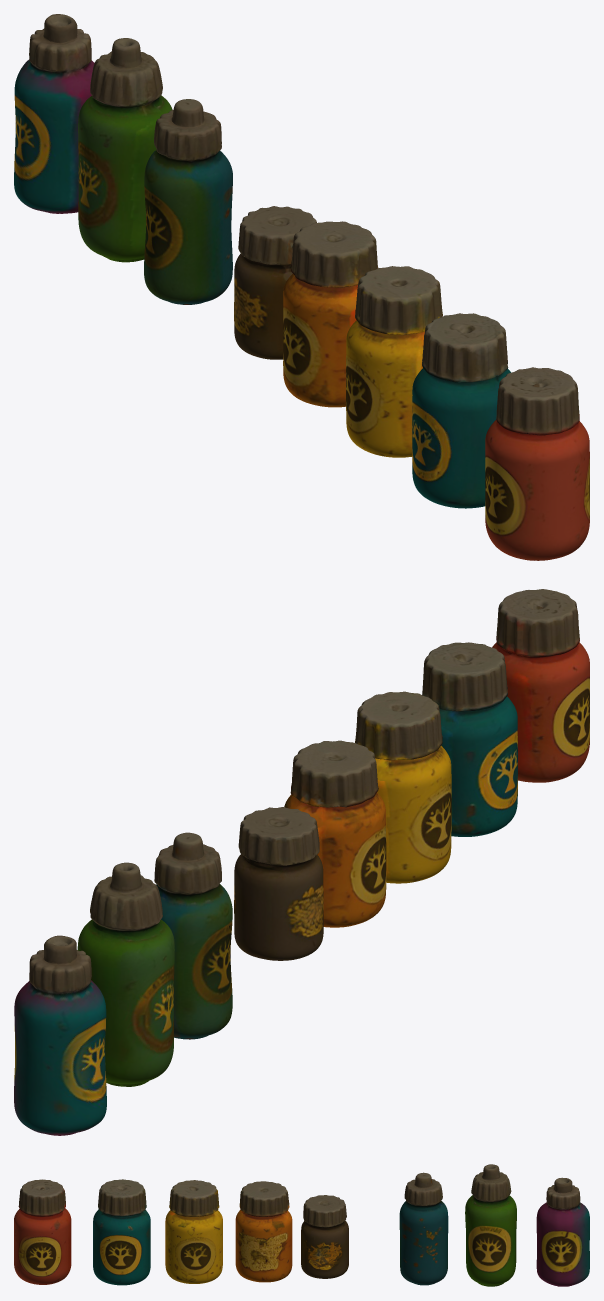
File: paint+bottles+3d+model.fbx
3 renders of one model, top to bottom at view 1: azimuth 30°, elevation 25°; view 2: azimuth 150°, elevation 25°; view 3: azimuth 270°, elevation 25°, orthographic. The views are drawn at different scales.
Visible parts, largest first — view 1: tripo_node_8216d208; view 2: tripo_node_8216d208; view 3: tripo_node_8216d208.
Boxes of the visible parts, <box> form: tripo_node_8216d208: <box>14,14,589,560</box>; tripo_node_8216d208: <box>14,589,589,1135</box>; tripo_node_8216d208: <box>14,1164,589,1286</box>.
Size of the model in its own units: 0.1 by 0.2181 by 1.
Materials: 1 (1 with a texture image).
